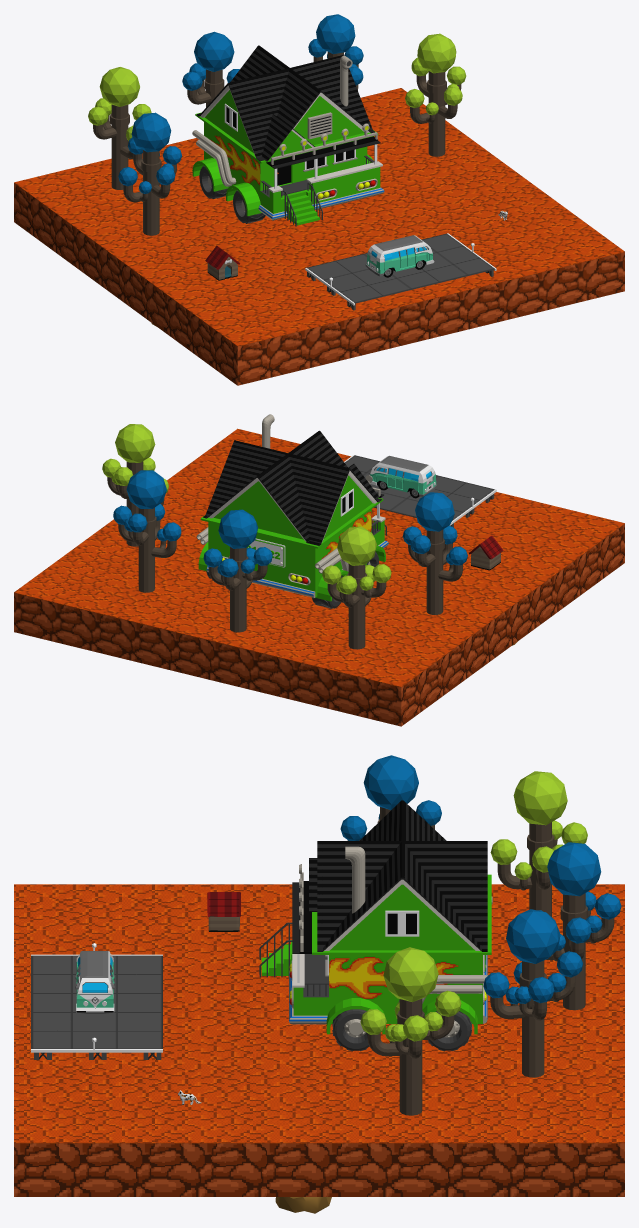
3 renders of one model, top to bottom at view 1: azimuth 30°, elevation 25°; view 2: azimuth 150°, elevation 25°; view 3: azimuth 270°, elevation 25°, orthographic. The views are drawn at different scales.
Parts seen in each view (by area): view 1: Cube.001, Cube.1474, VEHICLES_VAN, OBJRANDOM_DOGHOUSE; view 2: Cube.001, Cube.1474, VEHICLES_VAN, OBJRANDOM_DOGHOUSE; view 3: Cube.001, Cube.1474, VEHICLES_VAN, OBJRANDOM_DOGHOUSE, UNDERGROUND_T_REX_BONES.
Boxes of the visible parts, left/top/right/bottom form: Cube.001: left=14, top=14, right=624, bottom=385; Cube.1474: left=192, top=45, right=384, bottom=226; VEHICLES_VAN: left=365, top=235, right=434, bottom=277; OBJRANDOM_DOGHOUSE: left=205, top=246, right=239, bottom=280; Cube.001: left=14, top=424, right=624, bottom=726; Cube.1474: left=196, top=414, right=388, bottom=608; VEHICLES_VAN: left=370, top=455, right=437, bottom=498; OBJRANDOM_DOGHOUSE: left=468, top=535, right=503, bottom=570; Cube.001: left=14, top=755, right=624, bottom=1196; Cube.1474: left=259, top=800, right=492, bottom=1051; VEHICLES_VAN: left=75, top=951, right=114, bottom=1013; OBJRANDOM_DOGHOUSE: left=207, top=892, right=240, bottom=931; UNDERGROUND_T_REX_BONES: left=275, top=1197, right=331, bottom=1213.
Size of the model in its own units: 4000 by 1974 by 4000.
43 materials, 5 textured.
